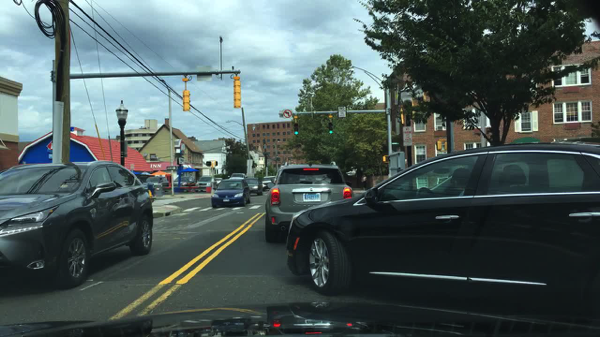car: (286, 137, 599, 321), (0, 160, 153, 289), (264, 160, 353, 244), (211, 179, 251, 210), (195, 175, 215, 194), (145, 176, 170, 191), (244, 176, 262, 196), (170, 176, 197, 186), (260, 176, 278, 188), (228, 173, 246, 181), (213, 177, 224, 184)
person: (359, 173, 368, 191)
traffic light: (232, 77, 241, 109), (403, 105, 413, 128), (182, 90, 189, 112), (395, 106, 403, 125), (327, 120, 334, 135), (293, 122, 299, 136), (434, 141, 441, 151), (381, 155, 388, 163), (443, 141, 448, 150), (213, 160, 218, 166), (206, 161, 211, 167)
traffic sign: (196, 65, 212, 82), (402, 129, 412, 147), (245, 158, 252, 173), (337, 106, 345, 118), (281, 110, 291, 119), (165, 166, 176, 171), (390, 141, 398, 146)
